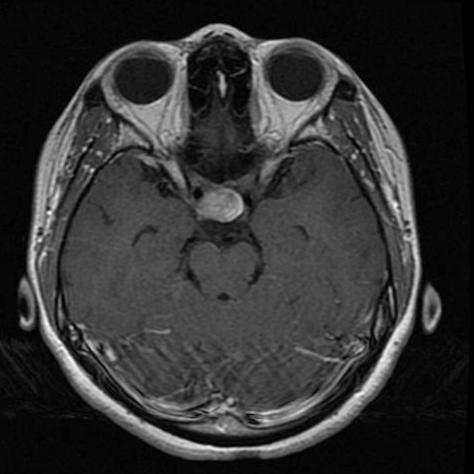Tumour-Pituitary: (183, 173, 264, 235)
